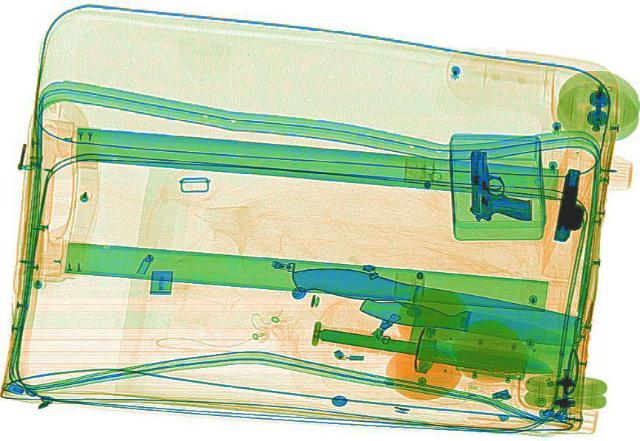Gun: (463, 148, 532, 221), (548, 166, 594, 241)
Knife: (264, 258, 596, 381), (354, 291, 582, 353), (311, 321, 555, 378)
